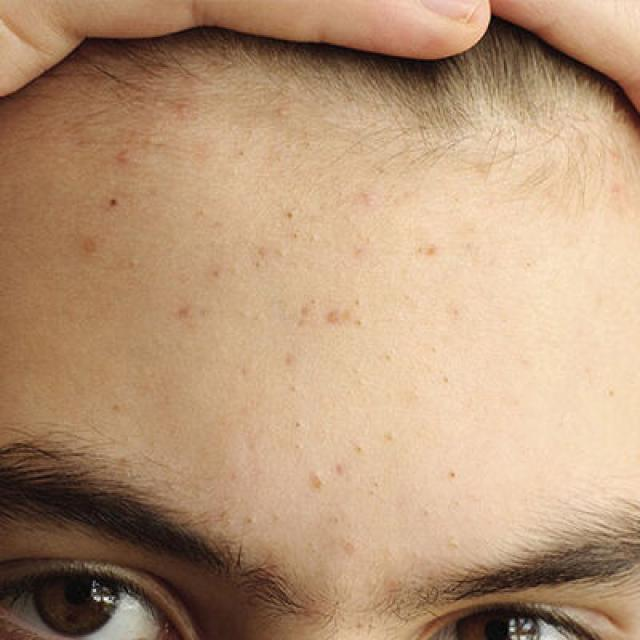acne: (64, 200, 426, 386)
dry: (6, 126, 640, 506)
